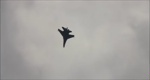maybay_muctieu: (60, 25, 74, 48)
